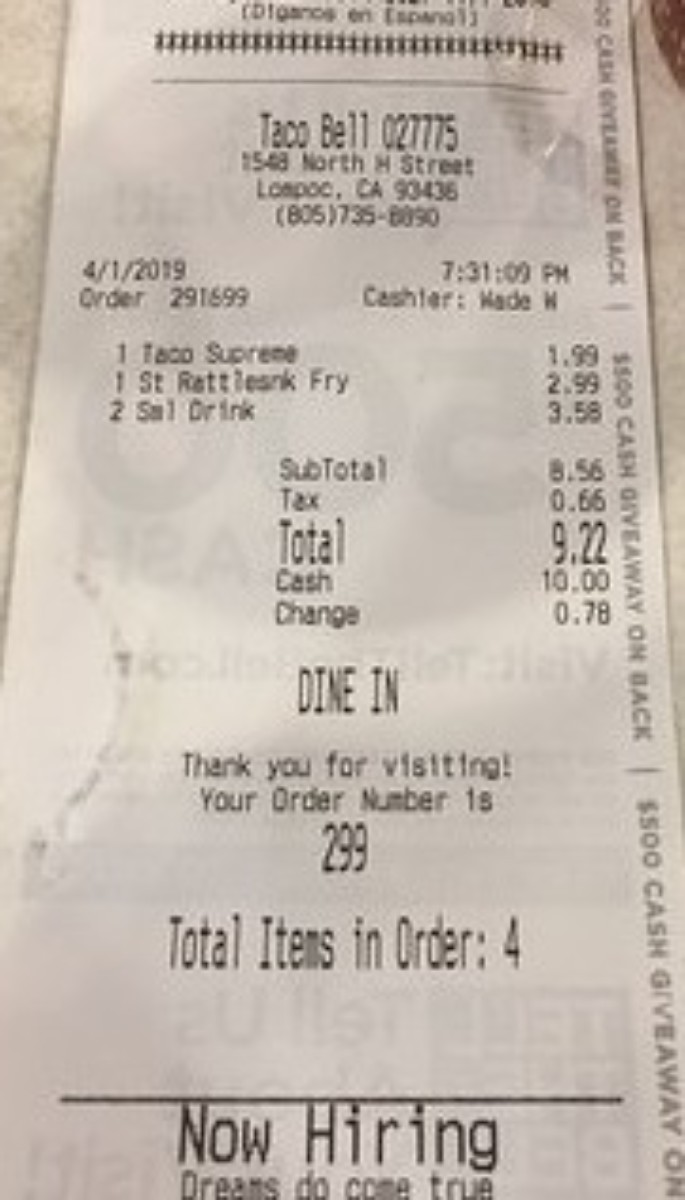Taco Bell: (245, 100, 375, 153)
